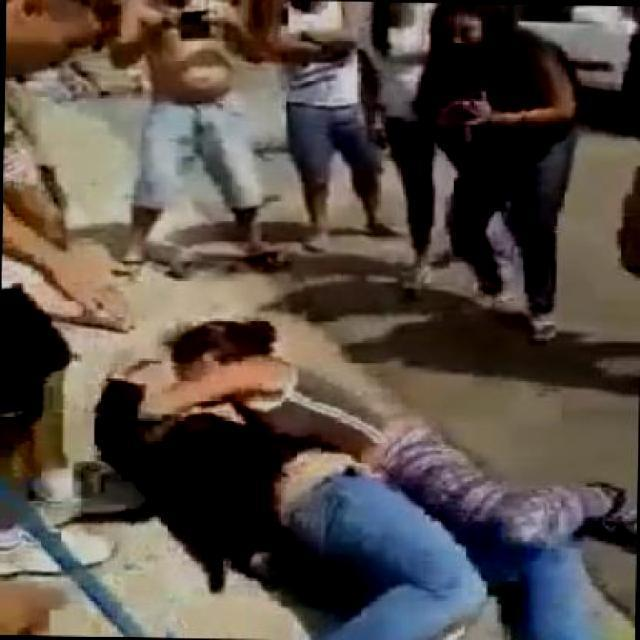fight: (92, 316, 632, 638)
